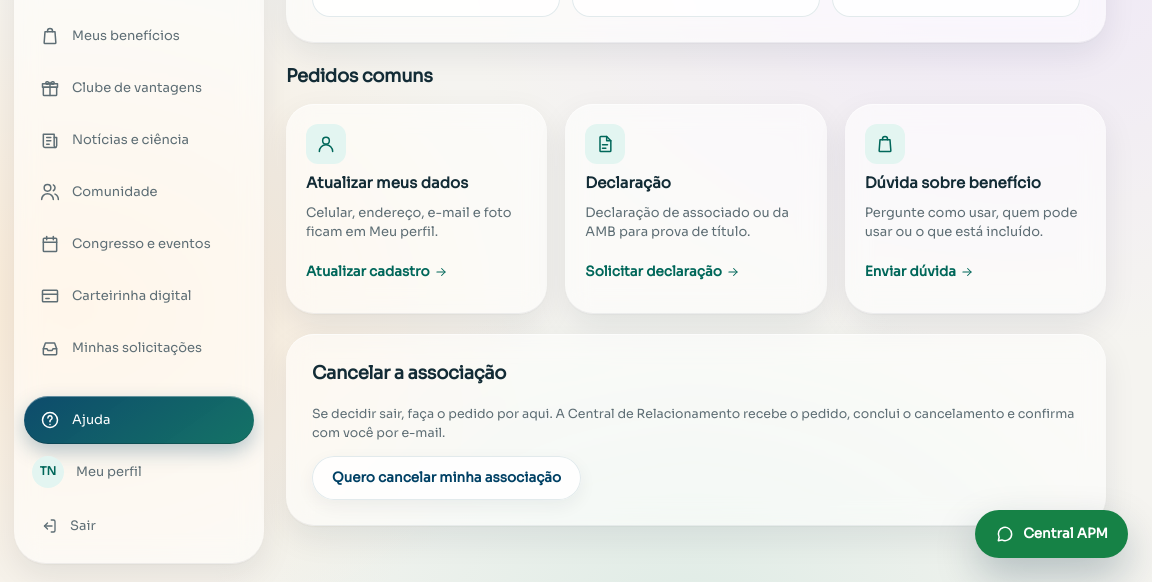
Ajuda e atendimento (P14; RF-AJ-01..05) › cancelamento com a flag: sucesso mostra o próximo passo e o caminho para acompanhar
(page scrolled)
What coordinates should you click on to do the following:
click the button "Quero cancelar minha associação"
I would click on:
 (447, 478)
Its box is [312,456,581,500].
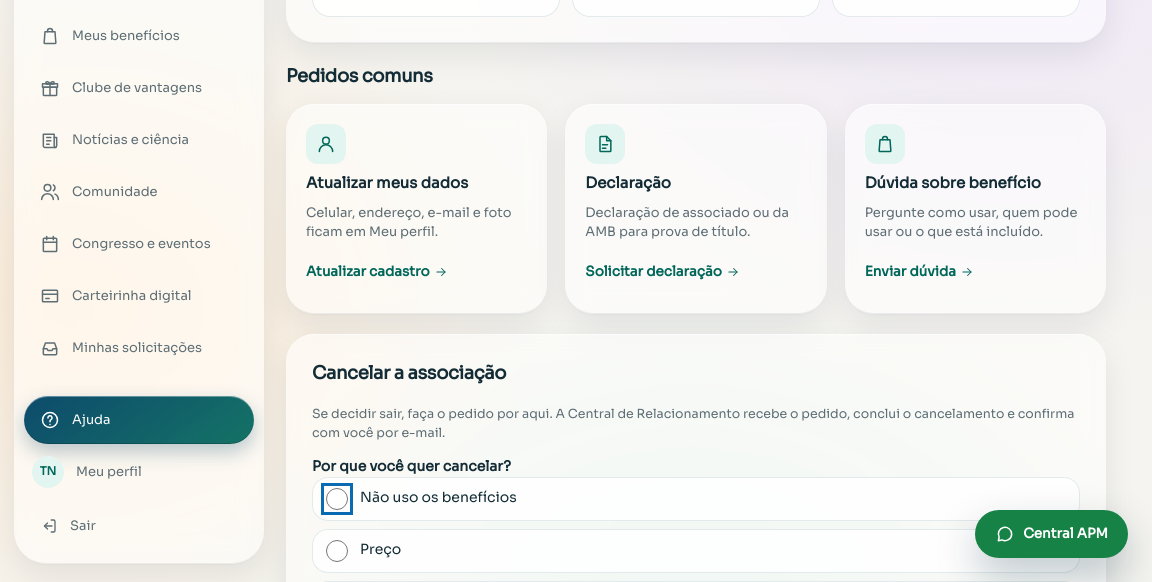
What coordinates should you click on to do the following:
click the radio button labelled "Não uso os benefícios"
I would click on:
 (337, 499)
Its box is [326,488,348,510].
(page scrolled)
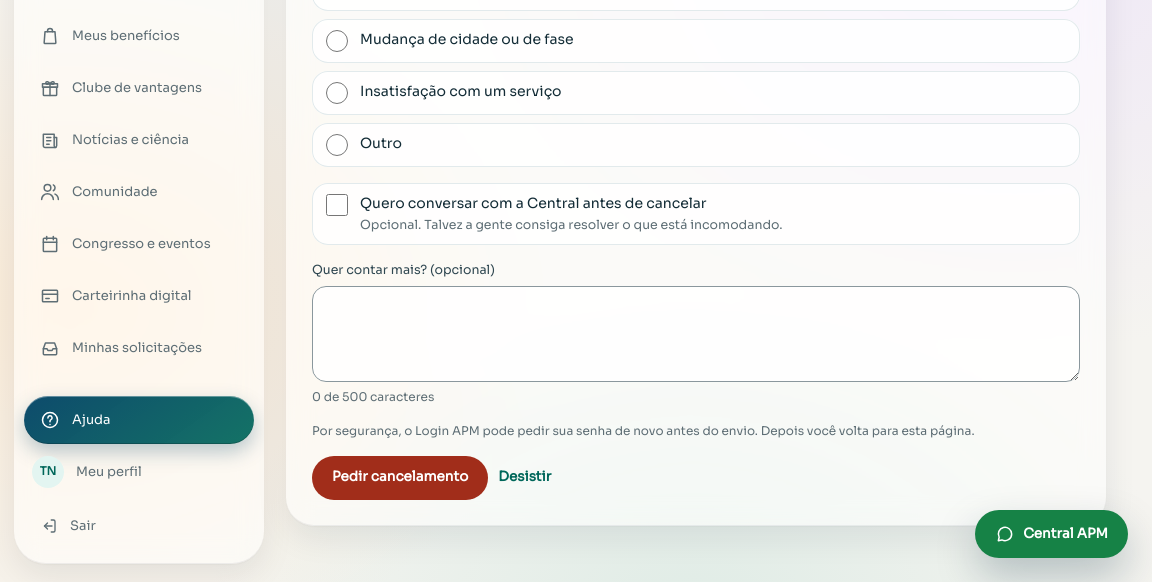
What coordinates should you click on to do the following:
click the button "Pedir cancelamento"
I would click on:
 (400, 478)
Its box is [312,456,488,500].
(page scrolled)
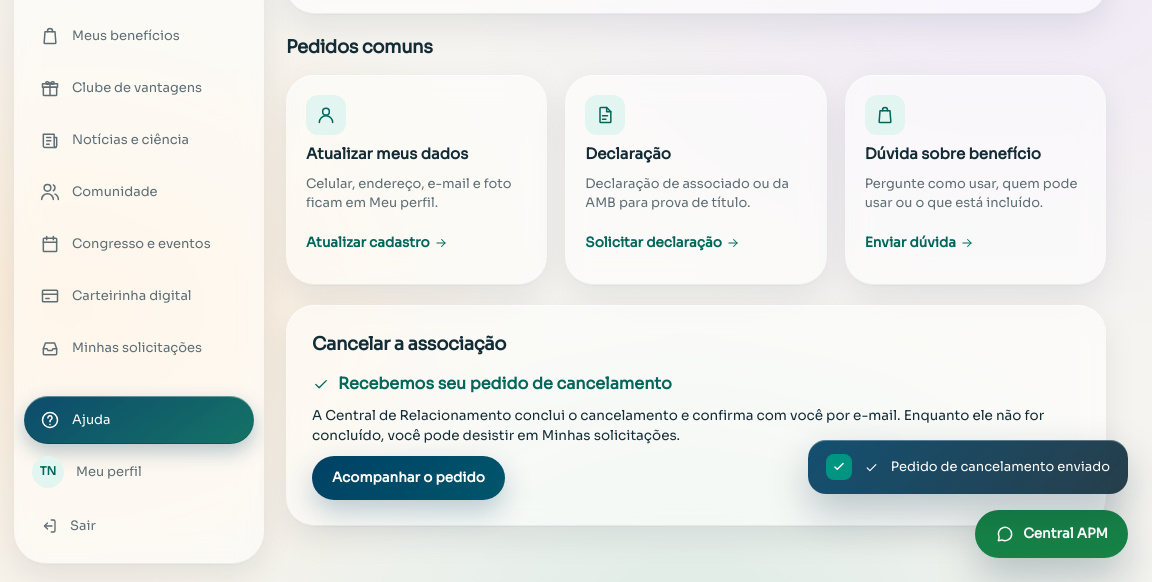
Expected: the text "conclui o cancelamento e confirma com você por e-mail" is shown, [312,406,901,424]
